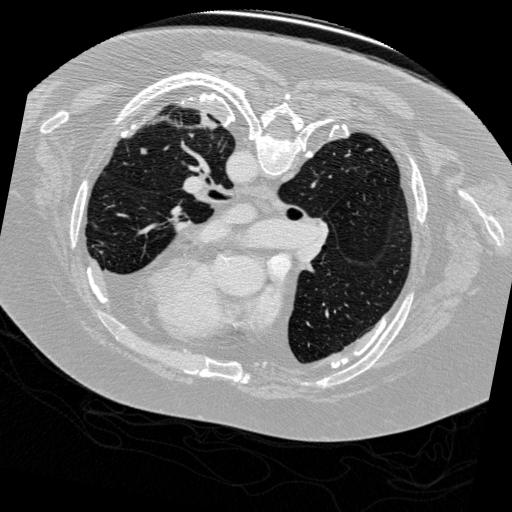nodule: (139, 147, 151, 159)
